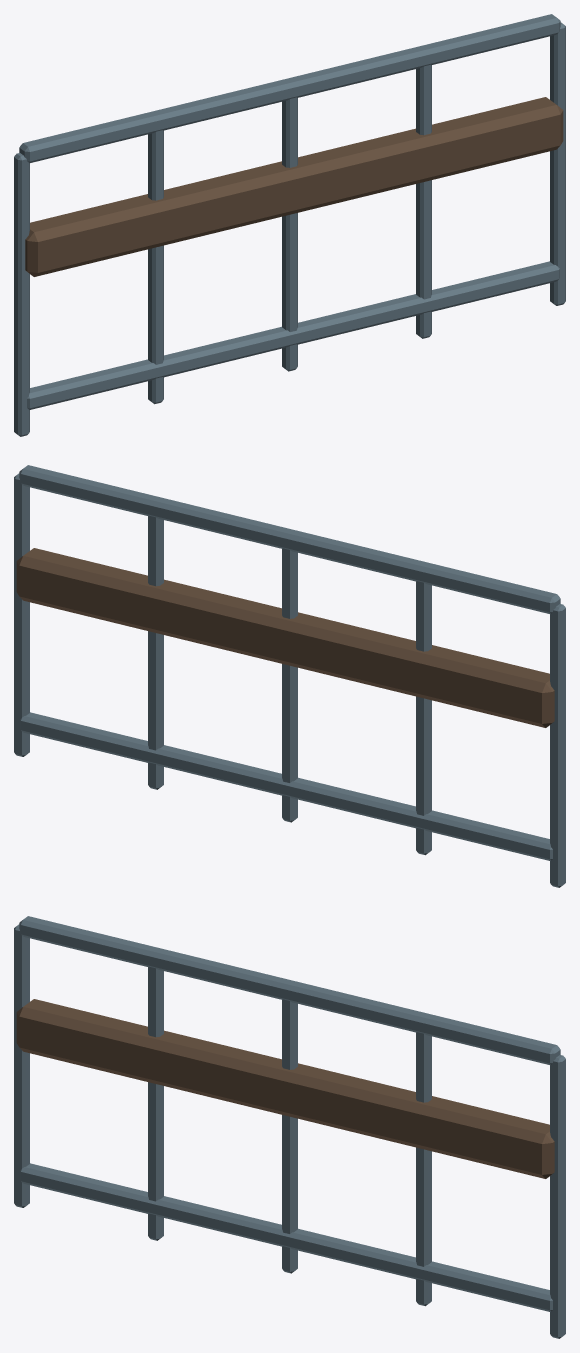
Rendered from architecture-village-rail.lod0.glb.
The picture shows the model from 3 angles, top to bottom: view 1: azimuth 30°, elevation 25°; view 2: azimuth 150°, elevation 25°; view 3: azimuth 330°, elevation 25°; orthographic projection.
Visible parts, largest first — view 1: architecture-village-rail__body; view 2: architecture-village-rail__body; view 3: architecture-village-rail__body.
Part boxes in pixels (x1,y1,x2,y2): architecture-village-rail__body: (14, 14, 565, 436); architecture-village-rail__body: (14, 465, 565, 887); architecture-village-rail__body: (14, 916, 565, 1338).
Size of the model in its own units: 2.05 by 1.03 by 0.12.
